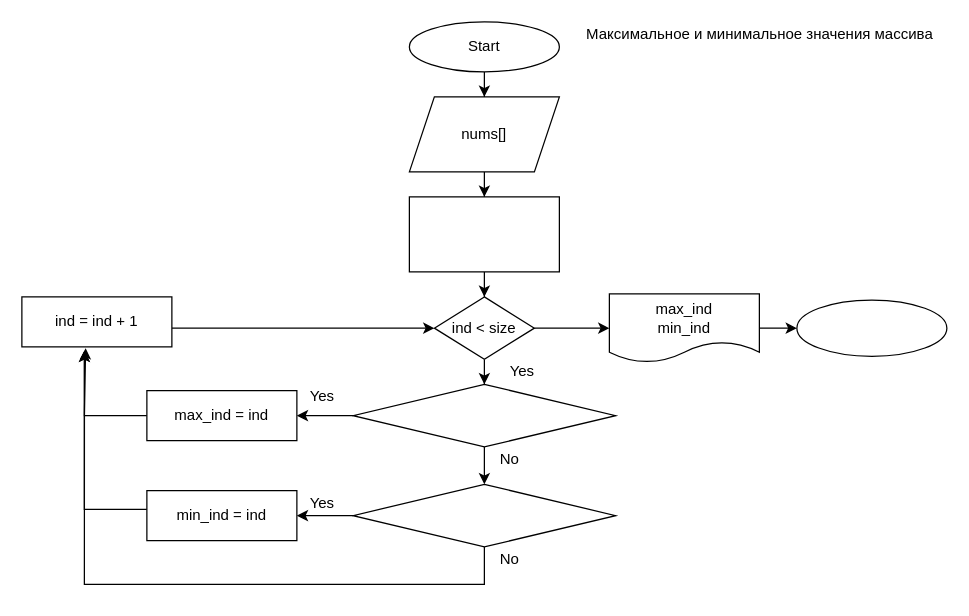
The diagram is 969 pixels wide and 616 high, and some of its shapes have lost their labels. The shapes that lost their labels are listed below. From the top down, each one's box as (x1, y1, x2, y2) in pixels, then its label:
(408, 196, 559, 272): size = nums.length ind = 0 max_ind = 0 min_ind = 0
(796, 299, 947, 356): End
(352, 383, 616, 447): nums[ind] > nums[max_ind]
(352, 483, 616, 547): nums[ind] < nums[min_ind]
